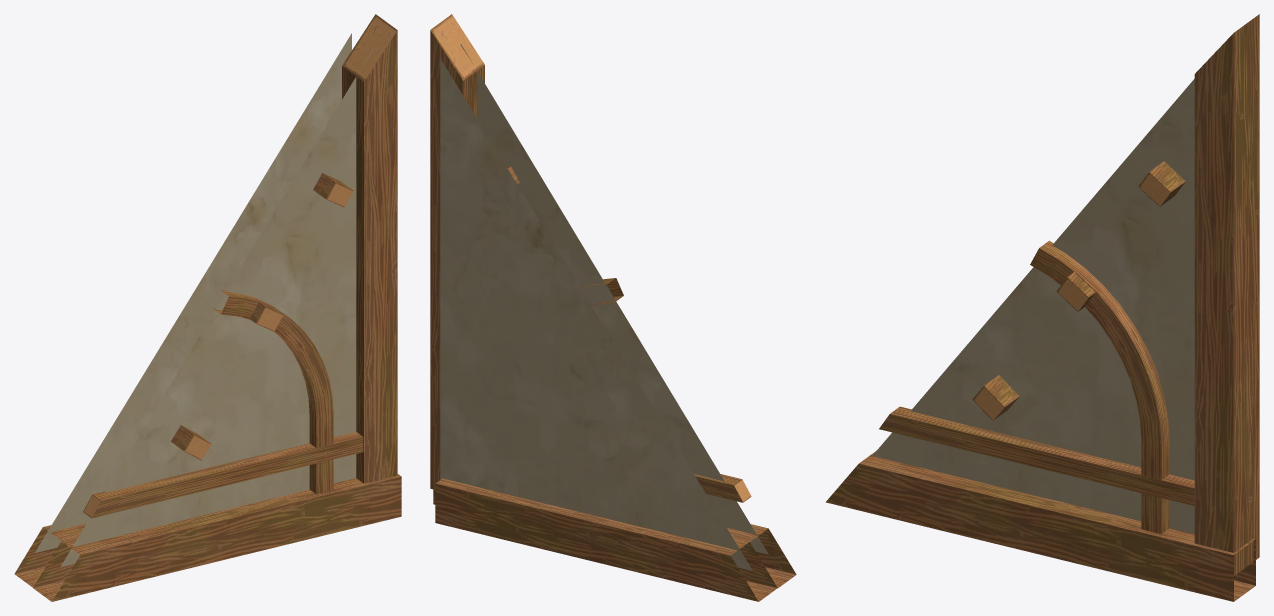
The model's file is roof_front_brick4_half_l.glb.
The picture shows the model from 3 angles, left to right: view 1: azimuth 30°, elevation 25°; view 2: azimuth 150°, elevation 25°; view 3: azimuth 330°, elevation 25°; orthographic projection. The views are drawn at different scales.
Bounding box in the file's own units: 2.41 × 3.2 × 0.4896.
2 materials, 2 textured.
